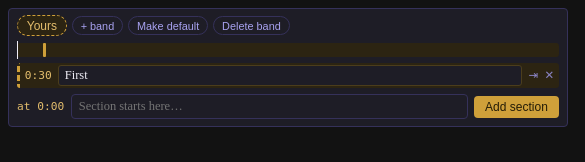
Scenario: MaterialChapters — writing into a band of one's own › shows a refused write and keeps the list on screen
Step 1. Replace the text in the field named "Title of the section at 0:30" with "New" → (290, 75), box [58,65,522,86]
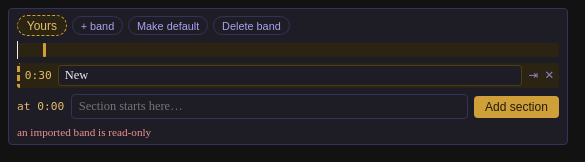
Expected: the text "an imported band is read-only" is shown, [17,126,151,138]
